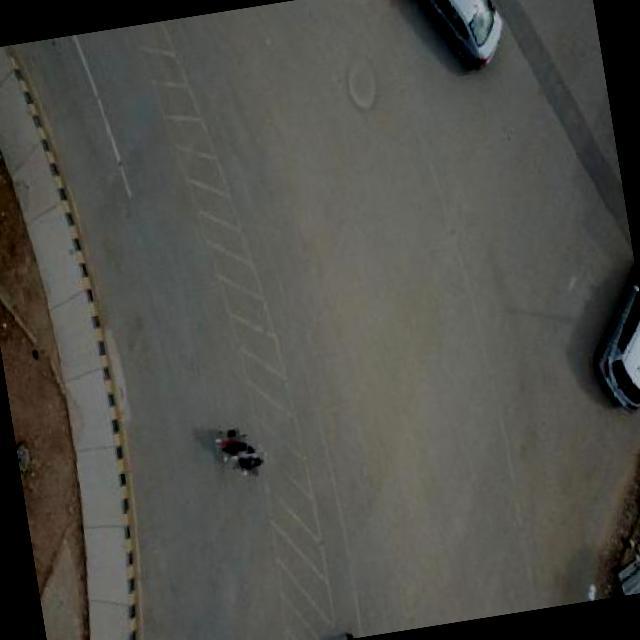Person: (216, 430, 246, 460), (235, 446, 262, 474)
